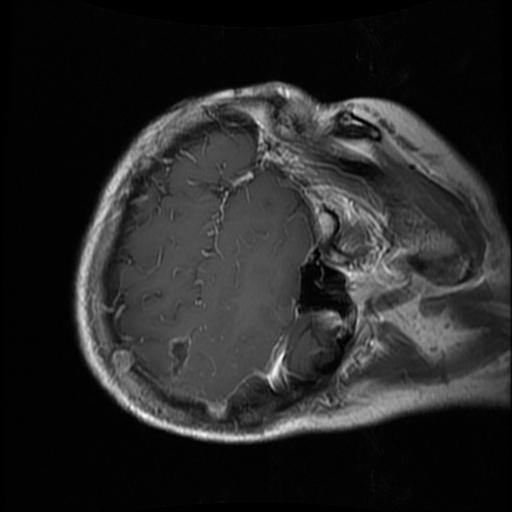glioma: (167, 338, 190, 383)
